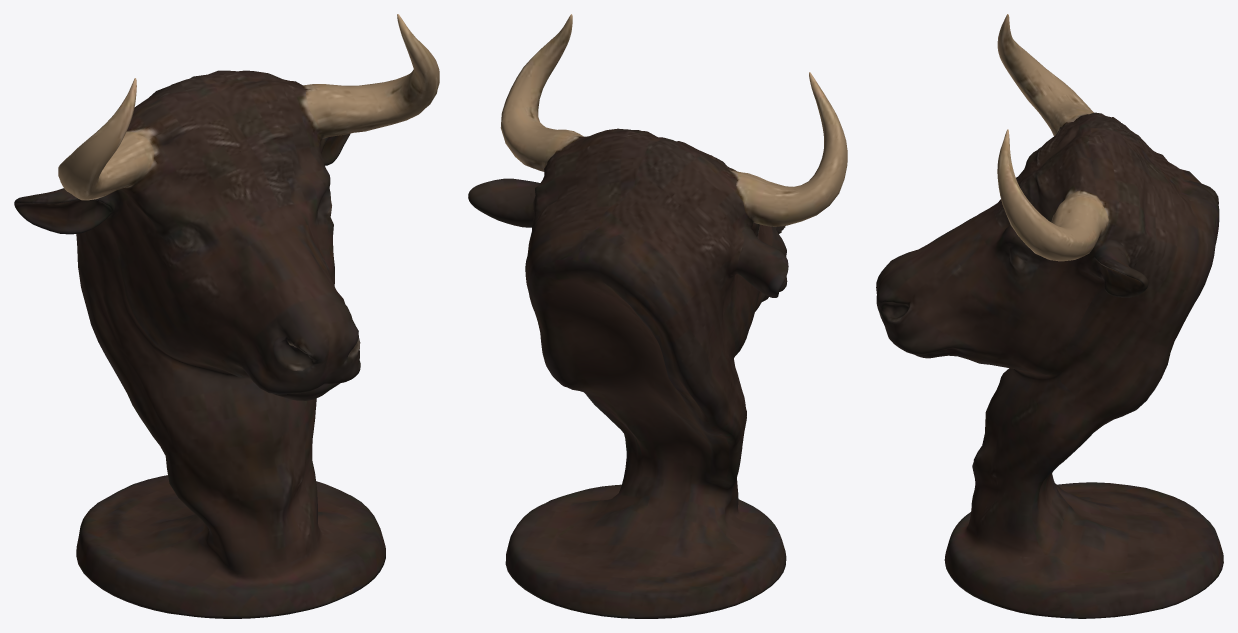
3 renders of one model, left to right at view 1: azimuth 30°, elevation 25°; view 2: azimuth 150°, elevation 25°; view 3: azimuth 270°, elevation 25°, orthographic. The views are drawn at different scales.
Visible parts, largest first — view 1: bull_head; view 2: bull_head; view 3: bull_head.
Part boxes in pixels (box(x1,y1,x2,y2)): bull_head: box(14, 14, 439, 618); bull_head: box(468, 14, 847, 618); bull_head: box(876, 14, 1223, 618).
Bounding box in the file's own units: 0.3064 × 0.433 × 0.2807.
1 material, 1 textured.
